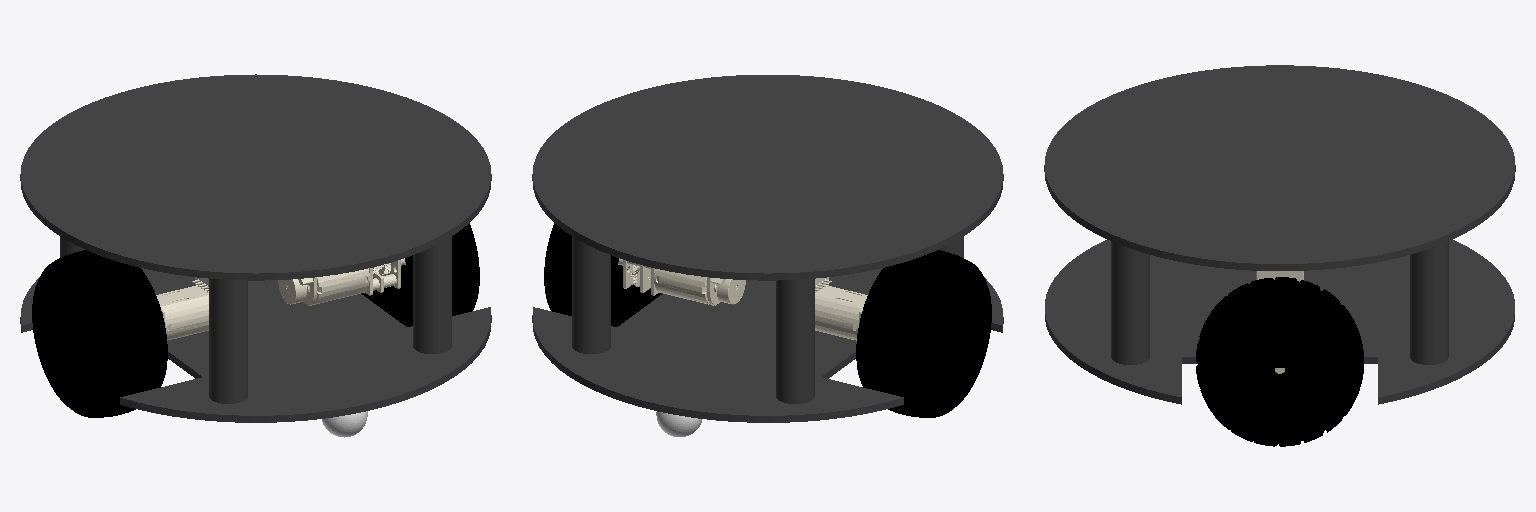
URDF robot description (tw_base):
<?xml version="1.0"?>

<robot name="tw_base" xmlns:xacro="http://ros.org/wiki/xacro">

<link name="part_1"><!--Base link-->
    <visual>
        <origin xyz= "-0.000128133 -9.90901e-05 0.0147895" rpy="0 -0 0" />
    <geometry>
            <mesh filename="package://os_robots_description/meshes/part_1.stl"/>
    </geometry>
    <material name="part_1_material">
        <color rgba="0.301961 0.301961 0.301961 1.0"/>
    </material>
    </visual>
    <collision>
        <origin xyz="-0.000128133 -9.90901e-05 0.0147895" rpy="0 -0 0" />
    <geometry>
        <mesh filename="package://os_robots_description/meshes/part_1.stl"/>
    </geometry>
    <material name="part_1_material">
        <color rgba="0.301961 0.301961 0.301961 1.0"/>
    </material>
    </collision>
    <inertial>
        <origin xyz="-0.000128133 -9.92196e-05 0.0157766" rpy="0 0 0"/>
        <mass value="0.0463133" />
        <inertia ixx="5.2942e-05" ixy="0"  ixz="0" iyy="2.42532e-05" iyz="-7.42025e-12" izz="7.71632e-05" />
    </inertial>
</link>

<link name="n@)"> <!--Right Motor-->
    <visual>
        <origin xyz="0.127619 0.231707 0.00135678" rpy="3.14159 2.65197e-31 0" />
    <geometry>
        <mesh filename="package://os_robots_description/meshes/n@).stl"/>
    </geometry>
    <material name="n@)_material">
        <color rgba="0.901961 0.878431 0.811765 1.0"/>
    </material>
    </visual>
    <collision>
        <origin xyz="0.127619 0.231707 0.00135678" rpy="3.14159 2.65197e-31 0" />
    <geometry>
        <mesh filename="package://os_robots_description/meshes/n@).stl"/>
    </geometry>
    <material name="n@)_material">
        <color rgba="0.901961 0.878431 0.811765 1.0"/>
    </material>
    </collision>
    <inertial>
        <origin xyz="0.00683686 2.68432e-05 -0.0055173" rpy="0 0 0"/>
        <mass value="0.0202353" />
        <inertia ixx="3.93877e-07" ixy="7.1532e-09"  ixz="1.17044e-07" iyy="1.68208e-06" iyz="6.74559e-09" izz="1.66679e-06" />
    </inertial>
</link>

<link name="n20-43mm-d-shaft-wheel-1.snapshot.9"> <!--Right Wheel-->
    <visual>
        <origin xyz="-0.0365766 0.030151 0.0172766" rpy="3.14159 9.86076e-32 0" />
    <geometry>
        <mesh filename="package://os_robots_description/meshes/n20-43mm-d-shaft-wheel-1.snapshot.9.stl"/>
    </geometry>
    <material name="n20-43mm-d-shaft-wheel-1.snapshot.9_material">
        <color rgba="0 0 0 1.0"/>
    </material>
    </visual>
    <collision>
        <origin xyz="-0.0365766 0.030151 0.0172766" rpy="3.14159 9.86076e-32 0" />
    <geometry>
        <mesh filename="package://os_robots_description/meshes/n20-43mm-d-shaft-wheel-1.snapshot.9.stl"/>
    </geometry>
    <material name="n20-43mm-d-shaft-wheel-1.snapshot.9_material">
        <color rgba="0 0 0 1.0"/>
    </material>
    </collision>
    <inertial>
        <origin xyz="-8.41996e-08 4.29217e-05 -0.00381857" rpy="0 0 0"/>
        <mass value="0.0222369" />
        <inertia ixx="3.68546e-06" ixy="4.66188e-10"  ixz="-2.19354e-10" iyy="3.67087e-06" iyz="-1.16215e-10" izz="6.30613e-06" />
    </inertial>
</link>

<joint name="RM_Revolute" type="revolute">
<origin xyz="-0.0199 4.16334e-16 -0.005" rpy="-1.5708 2.83277e-16 1.5708" />
<parent link="n@)" />
<child link="n20-43mm-d-shaft-wheel-1.snapshot.9" />
<axis xyz="0 0 1"/>
<limit effort="1" velocity="20" lower="0" upper="6.28319"/>
<joint_properties friction="0.0"/>
</joint>

<joint name="RM_Fastened" type="floating">
<origin xyz="0.0298719 -9.90901e-05 0.0167895" rpy="3.14159 -0 3.14159" />
<parent link="part_1" />
<child link="n@)" />
<axis xyz="0 0 1"/>
<limit effort="1" velocity="20" />
<joint_properties friction="0.0"/>
</joint>

<link name="n@)_2"><!-- Left Motor-->
    <visual>
        <origin xyz="0.127619 0.231707 0.00135678" rpy="3.14159 2.65197e-31 0" />
    <geometry>
        <mesh filename="package://os_robots_description/meshes/n@).stl"/>
    </geometry>
    <material name="n@)_material">
    <color rgba="0.901961 0.878431 0.811765 1.0"/>
    </material>
    </visual>
    <collision>
        <origin xyz="0.127619 0.231707 0.00135678" rpy="3.14159 2.65197e-31 0" />
    <geometry>
        <mesh filename="package://os_robots_description/meshes/n@).stl"/>
    </geometry>
    <material name="n@)_material">
        <color rgba="0.901961 0.878431 0.811765 1.0"/>
    </material>
    </collision>
    <inertial>
        <origin xyz="0.00683686 2.68432e-05 -0.0055173" rpy="0 0 0"/>
        <mass value="0.0202353" />
        <inertia ixx="3.93877e-07" ixy="7.1532e-09"  ixz="1.17044e-07" iyy="1.68208e-06" iyz="6.74559e-09" izz="1.66679e-06" />
    </inertial>
</link>

<link name="n20-43mm-d-shaft-wheel-1.snapshot.9_2"><!-- Left wheel-->
    <visual>
        <origin xyz="-0.0365766 0.030151 0.0172766" rpy="-3.14159 1.63787e-47 0" />
    <geometry>
        <mesh filename="package://os_robots_description/meshes/n20-43mm-d-shaft-wheel-1.snapshot.9.stl"/>
    </geometry>
    <material name="n20-43mm-d-shaft-wheel-1.snapshot.9_material">
        <color rgba="0 0 0 1.0"/>
    </material>
    </visual>
    <collision>
        <origin xyz="-0.0365766 0.030151 0.0172766" rpy="-3.14159 1.63787e-47 0" />
    <geometry>
        <mesh filename="package://os_robots_description/meshes/n20-43mm-d-shaft-wheel-1.snapshot.9.stl"/>
    </geometry>
    <material name="n20-43mm-d-shaft-wheel-1.snapshot.9_material">
        <color rgba="0 0 0 1.0"/>
    </material>
    </collision>
    <inertial>
        <origin xyz="-8.41996e-08 4.29217e-05 -0.00381857" rpy="0 0 0"/>
        <mass value="0.0222369" />
        <inertia ixx="3.68546e-06" ixy="4.66188e-10"  ixz="-2.19354e-10" iyy="3.67087e-06" iyz="-1.16215e-10" izz="6.30613e-06" />
    </inertial>
</link>

<joint name="LM_Revolute" type="revolute">
<origin xyz="-0.0199 4.16334e-16 -0.005" rpy="-1.5708 2.83277e-16 1.5708" />
<parent link="n@)_2" />
<child link="n20-43mm-d-shaft-wheel-1.snapshot.9_2" />
<axis xyz="0 0 1"/>
<limit effort="1" velocity="20" lower="0" upper="6.28319"/>
<joint_properties friction="0.0"/>
</joint>

<joint name="LM_Fastened" type="floating">
<origin xyz="-0.0301281 -9.90901e-05 0.0167895" rpy="3.14159 -0 0" />
<parent link="part_1" />
<child link="n@)_2" />
<axis xyz="0 0 1"/>
<limit effort="1" velocity="20" />
<joint_properties friction="0.0"/>
</joint>

<link name="wheel''s_body"><!--Caster body @ back-->
    <visual>
        <origin xyz="0 0 0" rpy="-1.5708 -0 0" />
    <geometry>
        <mesh filename="package://os_robots_description/meshes/wheel''s_body.stl"/>
    </geometry>
    <material name="wheel''s_body_material">
        <color rgba="0.901961 0.901961 0.901961 1.0"/>
    </material>
    </visual>
    <collision>
        <origin xyz="0 0 0" rpy="-1.5708 -0 0" />
    <geometry>
        <mesh filename="package://os_robots_description/meshes/wheel''s_body.stl"/>
    </geometry>
    <material name="wheel''s_body_material">
        <color rgba="0.901961 0.901961 0.901961 1.0"/>
    </material>
    </collision>
    <inertial>
        <origin xyz="2.34209e-10 1.97015e-08 -0.00333562" rpy="0 0 0"/>
        <mass value="0.0131095" />
        <inertia ixx="5.28777e-07" ixy="-2.10565e-14"  ixz="-1.10312e-14" iyy="6.63513e-07" iyz="9.57429e-13" izz="1.06485e-06" />
    </inertial>
</link>

<link name="ball"><!--Caster Ball @ back-->
    <visual>
        <origin xyz="0 0 0" rpy="0 -0 0" />
    <geometry>
        <mesh filename="package://os_robots_description/meshes/ball.stl"/>
    </geometry>
    <material name="ball_material">
        <color rgba="0.901961 0.901961 0.901961 1.0"/>
    </material>
    </visual>
    <collision>
        <origin xyz="0 0 0" rpy="0 -0 0" />
    <geometry>
        <mesh filename="package://os_robots_description/meshes/ball.stl"/>
    </geometry>
    <material name="ball_material">
        <color rgba="0.901961 0.901961 0.901961 1.0"/>
    </material>
    </collision>
    <inertial>
        <origin xyz="1.46269e-19 2.68691e-35 0" rpy="0 0 0"/>
        <mass value="0.00838007" />
        <inertia ixx="1.36015e-07" ixy="0"  ixz="0" iyy="1.36015e-07" iyz="0" izz="1.36015e-07" />
    </inertial>
</link>

<joint name="CbB_Fastened" type="floating">
<origin xyz="0 0 -0.007826" rpy="3.14159 -0 0" />
<parent link="wheel''s_body" />
<child link="ball" />
<axis xyz="0 0 1"/>
<limit effort="1" velocity="20" />
<joint_properties friction="0.0"/>
</joint>

<joint name="CB_Fastened" type="floating">
<origin xyz="-0.000128133 0.0448764 0.0142895" rpy="0 -0 0" />
<parent link="part_1" />
<child link="wheel''s_body" />
<axis xyz="0 0 1"/>
<limit effort="1" velocity="20" />
<joint_properties friction="0.0"/>
</joint>

<link name="wheel''s_body_2"><!--Caster body @ front-->
    <visual>
        <origin xyz="0 0 0" rpy="-1.5708 -0 0" />
    <geometry>
        <mesh filename="package://os_robots_description/meshes/wheel''s_body.stl"/>
    </geometry>
    <material name="wheel''s_body_material">
        <color rgba="0.901961 0.901961 0.901961 1.0"/>
    </material>
    </visual>
    <collision>
        <origin xyz="0 0 0" rpy="-1.5708 -0 0" />
    <geometry>
        <mesh filename="package://os_robots_description/meshes/wheel''s_body.stl"/>
    </geometry>
    <material name="wheel''s_body_material">
        <color rgba="0.901961 0.901961 0.901961 1.0"/>
    </material>
    </collision>
    <inertial>
        <origin xyz="2.34209e-10 1.97015e-08 -0.00333562" rpy="0 0 0"/>
        <mass value="0.0131095" />
        <inertia ixx="5.28777e-07" ixy="-2.10565e-14"  ixz="-1.10312e-14" iyy="6.63513e-07" iyz="9.57429e-13" izz="1.06485e-06" />
    </inertial>
</link>

<link name="ball_2"><!--Caster Ball @ front-->
    <visual>
        <origin xyz="0 0 0" rpy="0 -0 0" />
    <geometry>
        <mesh filename="package://os_robots_description/meshes/ball.stl"/>
    </geometry>
    <material name="ball_material">
        <color rgba="0.901961 0.901961 0.901961 1.0"/>
    </material>
    </visual>
    <collision>
        <origin xyz="0 0 0" rpy="0 -0 0" />
    <geometry>
        <mesh filename="package://os_robots_description/meshes/ball.stl"/>
    </geometry>
    <material name="ball_material">
        <color rgba="0.901961 0.901961 0.901961 1.0"/>
    </material>
    </collision>
    <inertial>
        <origin xyz="1.46269e-19 2.68691e-35 0" rpy="0 0 0"/>
        <mass value="0.00838007" />
        <inertia ixx="1.36015e-07" ixy="0"  ixz="0" iyy="1.36015e-07" iyz="0" izz="1.36015e-07" />
    </inertial>
</link>

<joint name="CbF_Fastened" type="floating">
<origin xyz="0 0 -0.007826" rpy="3.14159 -0 0" />
<parent link="wheel''s_body_2" />
<child link="ball_2" />
<axis xyz="0 0 1"/>
<limit effort="1" velocity="20" />
<joint_properties friction="0.0"/>
</joint>

<joint name="CF_Fastened" type="floating">
<origin xyz="-0.000128133 -0.0450998 0.0142895" rpy="0 -0 0" />
<parent link="part_1" />
<child link="wheel''s_body_2" />
<axis xyz="0 0 1"/>
<limit effort="1" velocity="20" />
<joint_properties friction="0.0"/>
</joint>


</robot>

--- What the picture shows (computed from the rendered views, not written in the file) ---
Views: 3 orthographic renders of the robot side by side, from view 1: azimuth 30°, elevation 25°; view 2: azimuth 150°, elevation 25°; view 3: azimuth 270°, elevation 25°.
Robot: tw_base — 9 links, 8 joints (2 revolute, 6 floating); root link part_1; default pose: every joint at zero.
Links seen in each view (by area): view 1: part_1, n20-43mm-d-shaft-wheel-1.snapshot.9_2, n20-43mm-d-shaft-wheel-1.snapshot.9, n@), n@)_2, ball_2; view 2: part_1, n20-43mm-d-shaft-wheel-1.snapshot.9_2, n20-43mm-d-shaft-wheel-1.snapshot.9, n@), n@)_2, ball; view 3: part_1, n20-43mm-d-shaft-wheel-1.snapshot.9.
Boxes of the visible links, x1,y1,x2,y2 form: part_1: (20,74,491,422); n20-43mm-d-shaft-wheel-1.snapshot.9_2: (32,250,167,417); n20-43mm-d-shaft-wheel-1.snapshot.9: (361,223,479,326); n@): (278,258,405,305); n@)_2: (156,277,208,340); ball_2: (322,411,367,437); part_1: (532,75,1003,422); n20-43mm-d-shaft-wheel-1.snapshot.9_2: (856,250,991,417); n20-43mm-d-shaft-wheel-1.snapshot.9: (544,223,662,326); n@): (618,258,745,305); n@)_2: (815,277,867,340); ball: (656,411,701,436); part_1: (1044,65,1515,404); n20-43mm-d-shaft-wheel-1.snapshot.9: (1196,277,1363,446).
Bounding box of the posed robot: 0.12 × 0.12 × 0.0555 m (x, y, z).
7 mesh visuals loaded from 5 distinct referenced files (4 binary STL); not drawn: 2 (reference not matched to a file when rendering).
